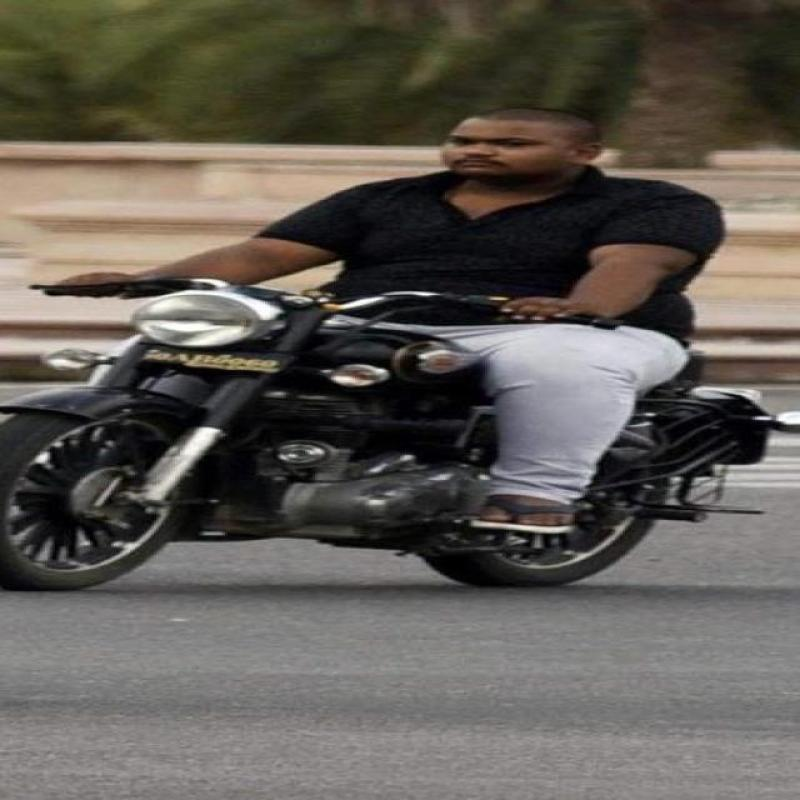nohelmet: (422, 90, 614, 194)
